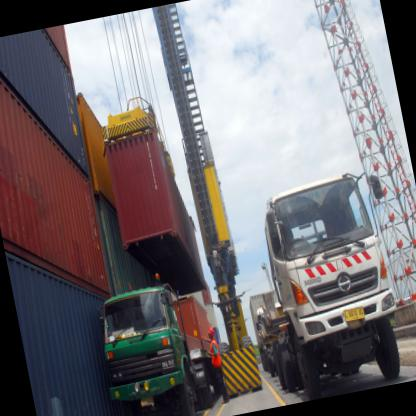truck: (257, 168, 413, 400), (93, 281, 204, 416)
